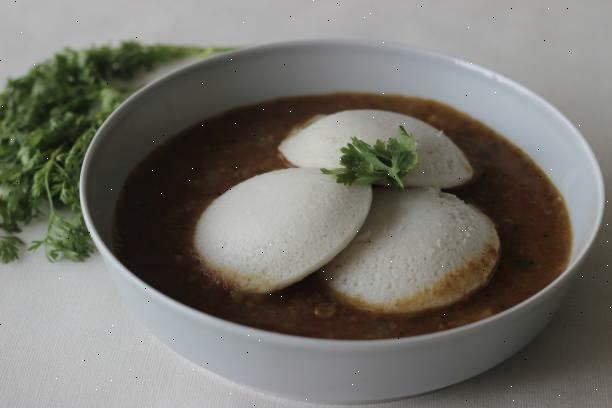idli: (222, 120, 483, 305)
sambhar: (107, 123, 207, 272)
